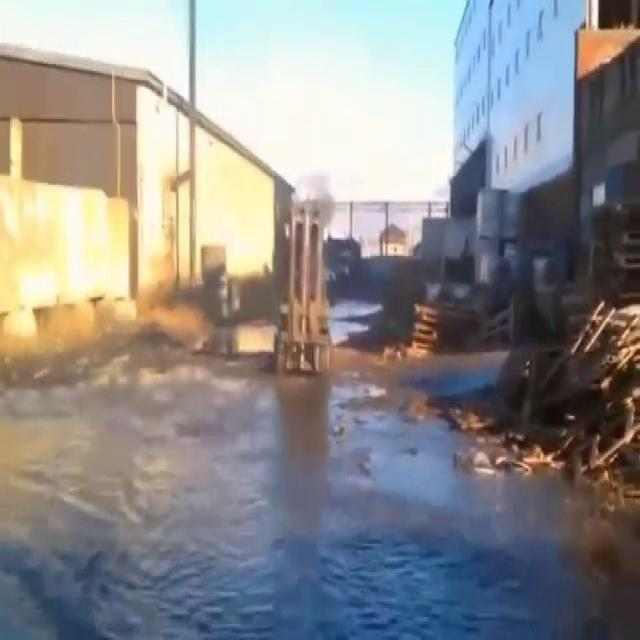Chariot elevateur: (272, 188, 340, 390)
